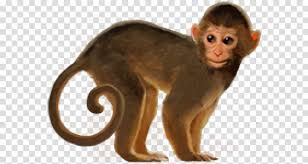monkey: (26, 13, 287, 163)
